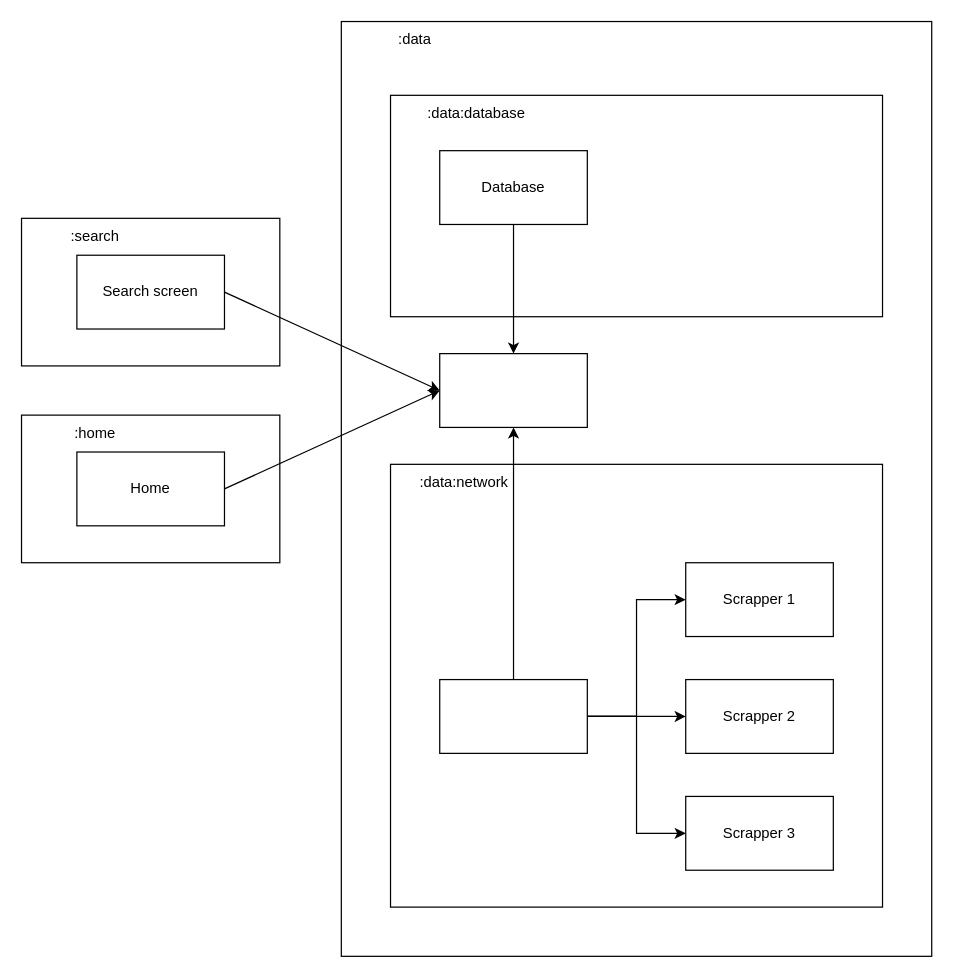
Some shapes in this 953 by 978 pixel diagram are drawn without their labels. The box of each missing label's shape, as (x1, y1, x2, y2) in pixels:
Datasource: (438, 352, 587, 427)
Scrappers (Network): (438, 678, 587, 753)
